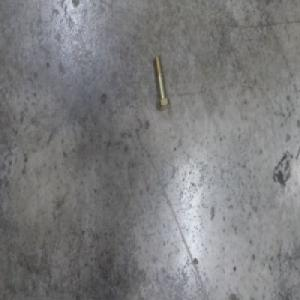Bolt: (153, 54, 170, 112)
